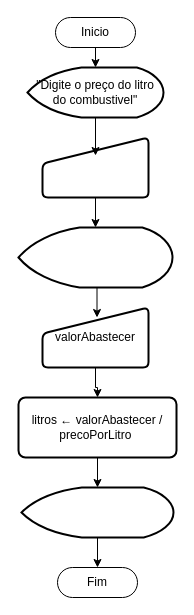
This 194x615 diagram has some shape labels left out. Here are the shapes that lost their labels. From the top down, the centre of each, then its label:
pixel 95 167: precoPorLitro
pixel 95 257: "Digite o valor disponivel para abastecer "
pixel 97 512: "Quantidade de litros que vai para o tanque: ", litros
